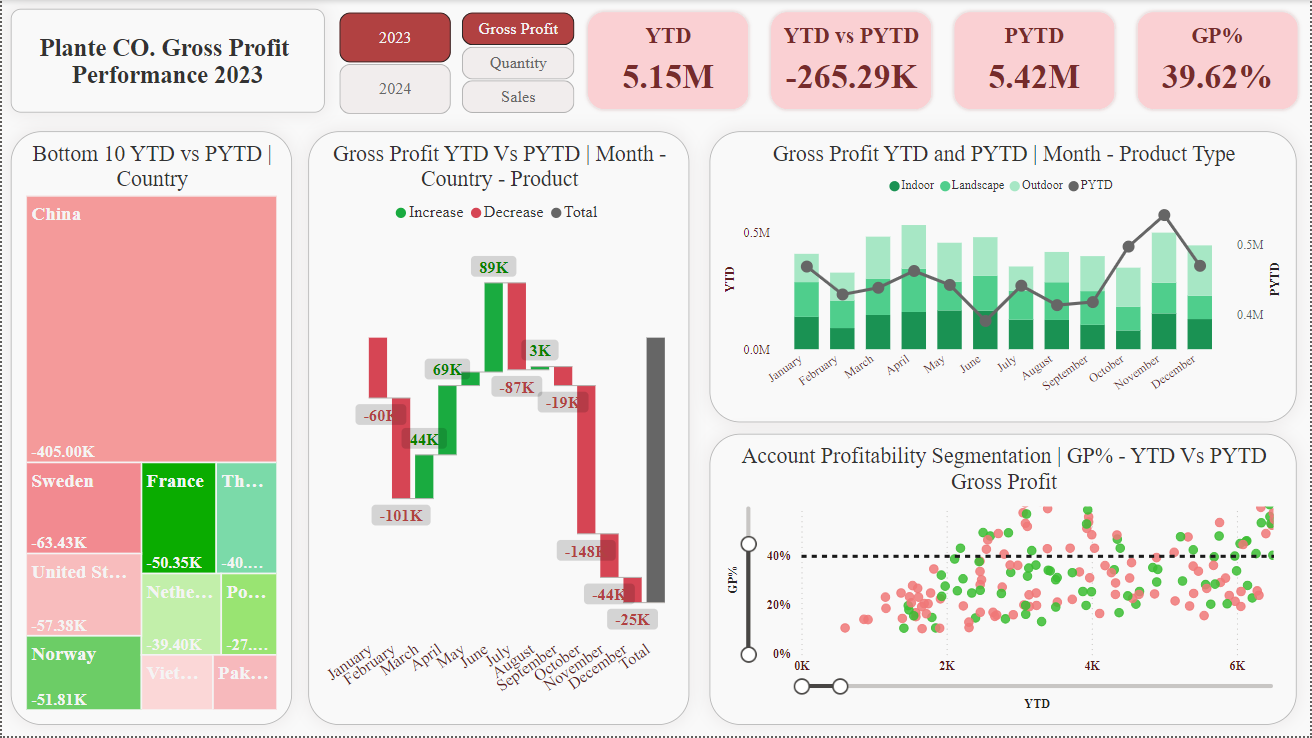

This screenshot's page, from the dashboard's own definition file:
{"tool":"powerbi","page":{"name":"Page 1","canvas":[1280,720],"ordinal":0},"visuals":[{"type":"cardVisual","fields":{"Data":["_Measures.S_YTD","_Measures.YTD vs PYTD","_Measures.S_PYTD","_Measures.GP%"]},"box":[561.3,0,718,119.8],"z":0},{"type":"advancedSlicerVisual","fields":{"Values":["SLC_Values.Values"]},"box":[445,7,120,110.1],"z":1000},{"type":"advancedSlicerVisual","fields":{"Values":["Dim_Date.Date.Variation.Date Hierarchy.Year"]},"box":[325,7,119.8,110.1],"z":2000},{"type":"treemap","title":"Bottom 10 YTD vs PYTD | Country","fields":{"Group":["Dim_Account.country"],"Values":["_Measures.YTD vs PYTD"]},"box":[8.6,128.4,275.1,580.8],"z":3000},{"type":"waterfallChart","fields":{"Y":["_Measures.YTD vs PYTD"],"Category":["Dim_Date.Date.Variation.Date Hierarchy.Month","Dim_Account.country","Dim_Product.Produt_Type","Dim_Product.Product_Name"]},"box":[299.6,128.4,373,580.8],"z":4000},{"type":"lineStackedColumnComboChart","fields":{"Category":["Dim_Date.Date.Variation.Date Hierarchy.Month"],"Y":["_Measures.S_YTD"],"Y2":["_Measures.S_PYTD"],"Series":["Dim_Product.Produt_Type"]},"box":[692.1,128.4,574.7,285],"z":5000},{"type":"scatterChart","fields":{"Y":["_Measures.GP%"],"X":["_Measures.S_YTD"],"Category":["Dim_Account.Account"]},"box":[692.1,424.3,574.7,284.9],"z":6000},{"type":"card","fields":{"Values":["_Measures._ReportTitle"]},"box":[8.6,8,306.9,101.5],"z":7000}]}

Visuals, with their boxes in screenshot pixels (x1, y1, x2, y2), scaled from the page's 1280x720 canvas onto the 1312x738 screenshot:
cardVisual - _Measures.S_YTD x _Measures.YTD vs PYTD: l=575, t=0, r=1311, b=123
advancedSlicerVisual - SLC_Values.Values: l=456, t=7, r=579, b=120
advancedSlicerVisual - Dim_Date.Date.Variation.Date Hierarchy.Year: l=333, t=7, r=456, b=120
"Bottom 10 YTD vs PYTD | Country" treemap: l=9, t=132, r=291, b=727
waterfallChart - _Measures.YTD vs PYTD x Dim_Date.Date.Variation.Date Hierarchy.Month: l=307, t=132, r=689, b=727
lineStackedColumnComboChart - Dim_Date.Date.Variation.Date Hierarchy.Month x _Measures.S_YTD: l=709, t=132, r=1298, b=424
scatterChart - _Measures.GP% x _Measures.S_YTD: l=709, t=435, r=1298, b=727
card - _Measures._ReportTitle: l=9, t=8, r=323, b=112
